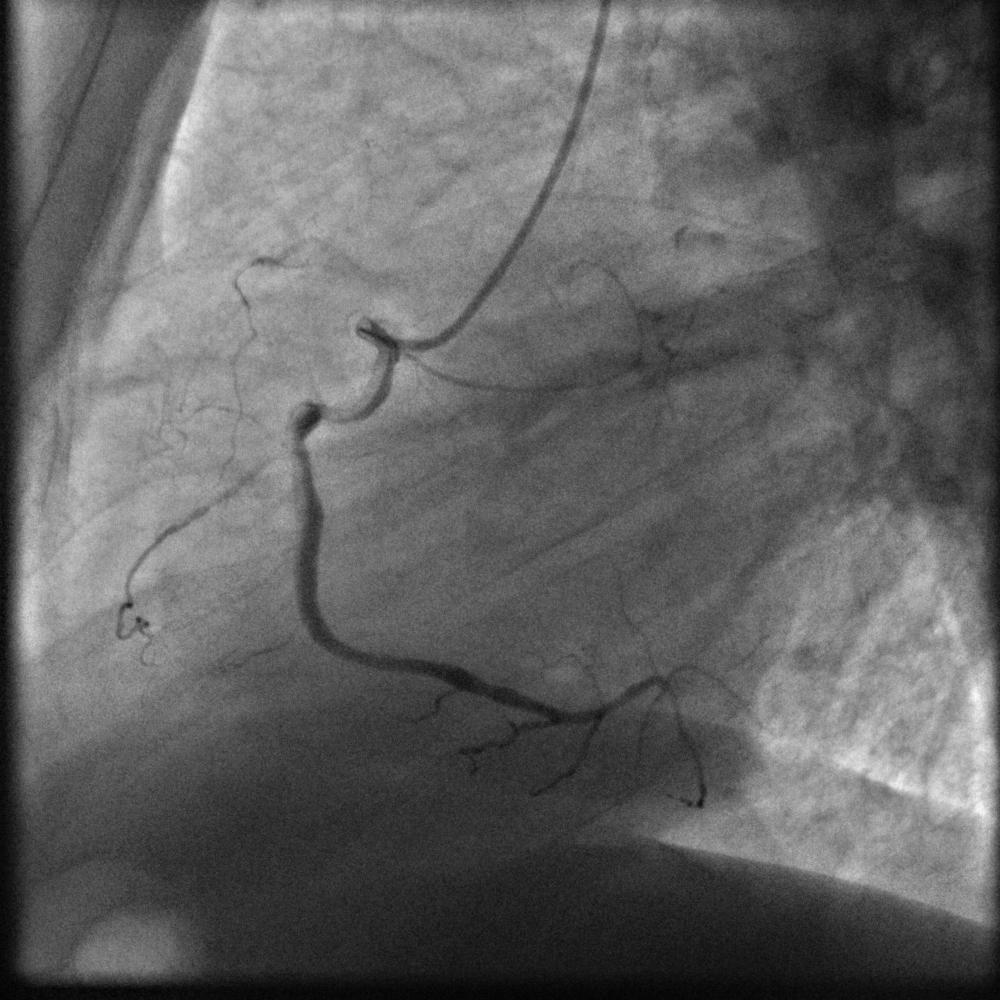Stenosis: (311, 401, 352, 429)
